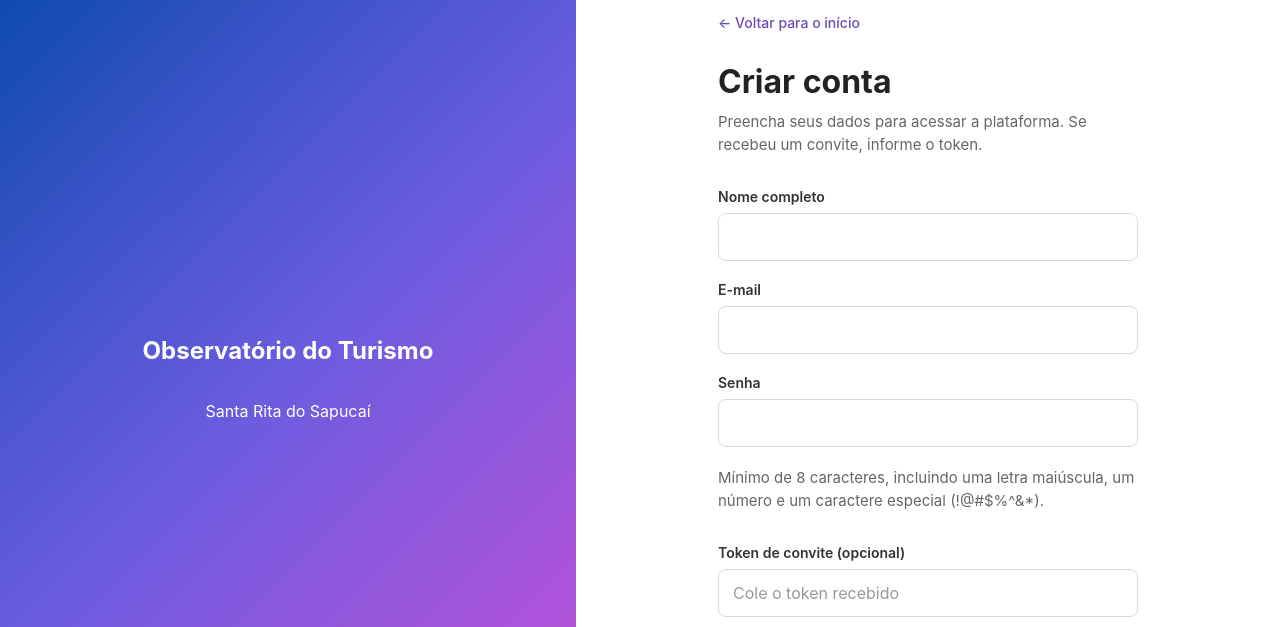
Test: Register - Cadastro com convite › exibe erro quando o e-mail já está cadastrado
Type "Usuário Teste" into the field labelled "Nome completo".
click(928, 237); type("Usuário Teste")  # box top-left (718, 213), bottom-right (1138, 261)
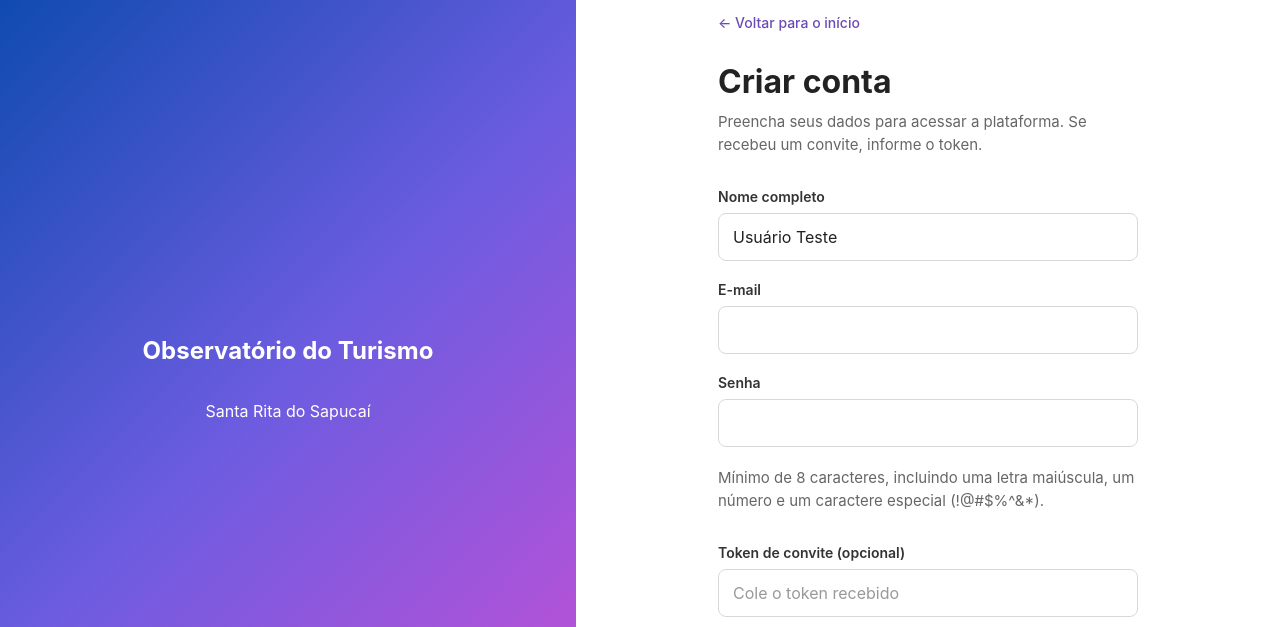
Type "teste@example.com" into the field labelled "E-mail".
click(928, 330); type("teste@example.com")  # box top-left (718, 306), bottom-right (1138, 354)
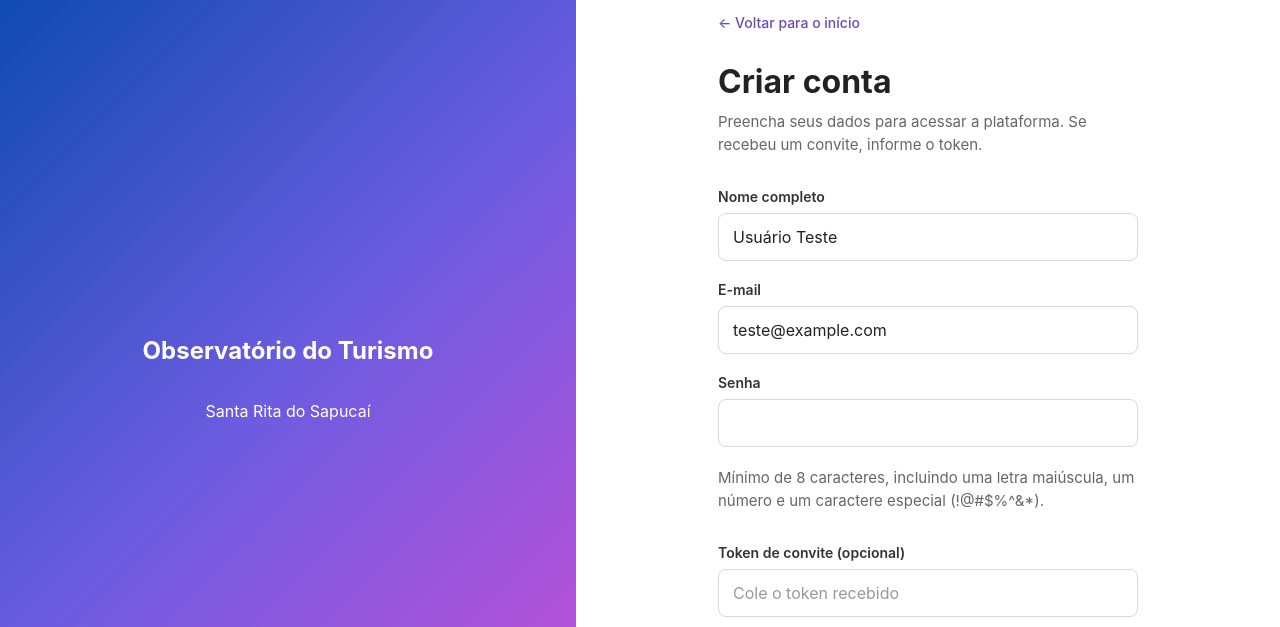
Type "Senha123!" into the password field labelled "Senha".
click(928, 423); type("Senha123!")  # box top-left (718, 399), bottom-right (1138, 447)
(page scrolled)
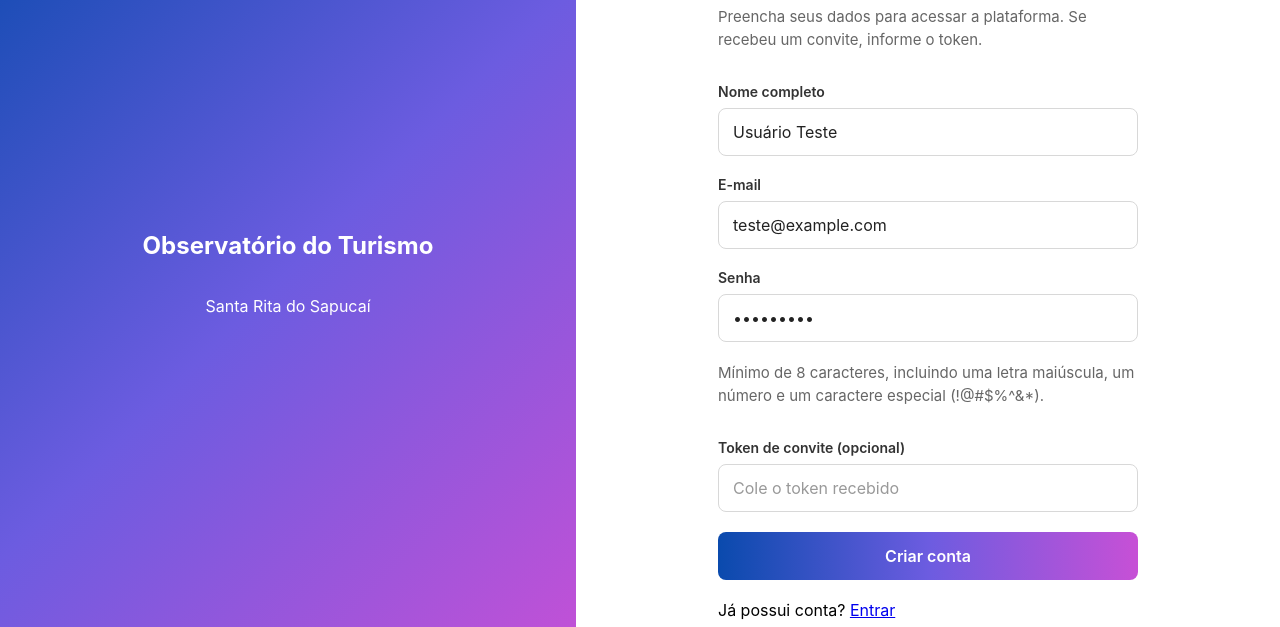
Click the button "Criar conta".
click(928, 556)  # box top-left (718, 532), bottom-right (1138, 580)
(page scrolled)
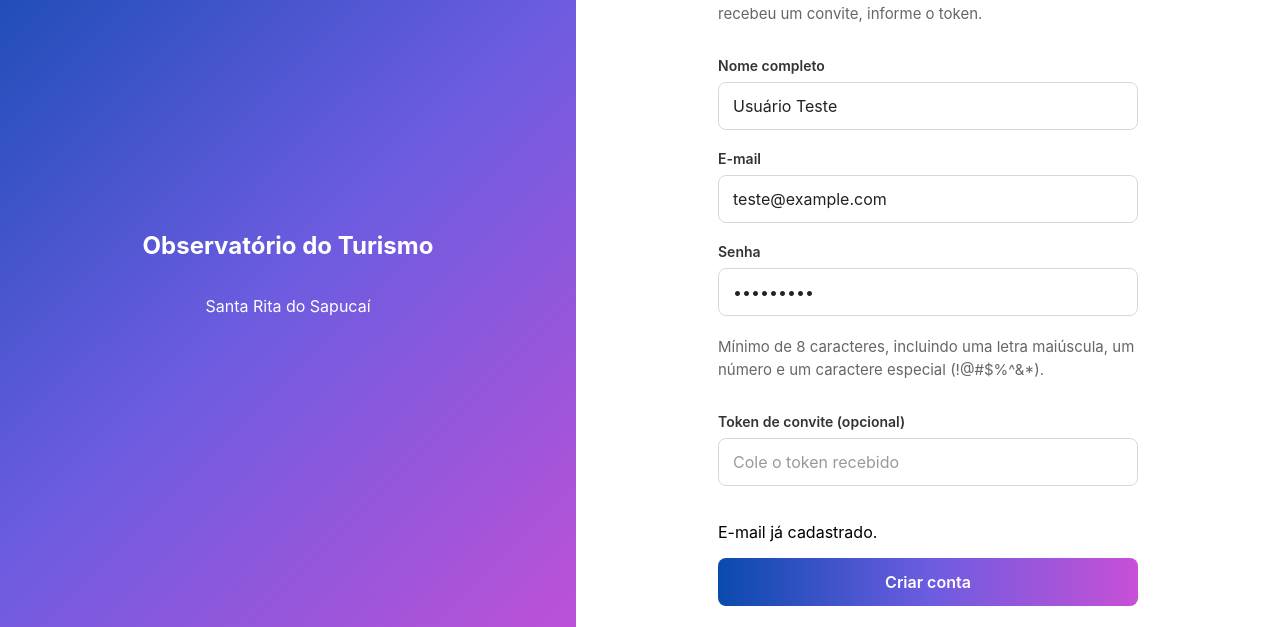
Check: the message reads "E-mail já cadastrado.", box top-left (718, 522), bottom-right (877, 542)
